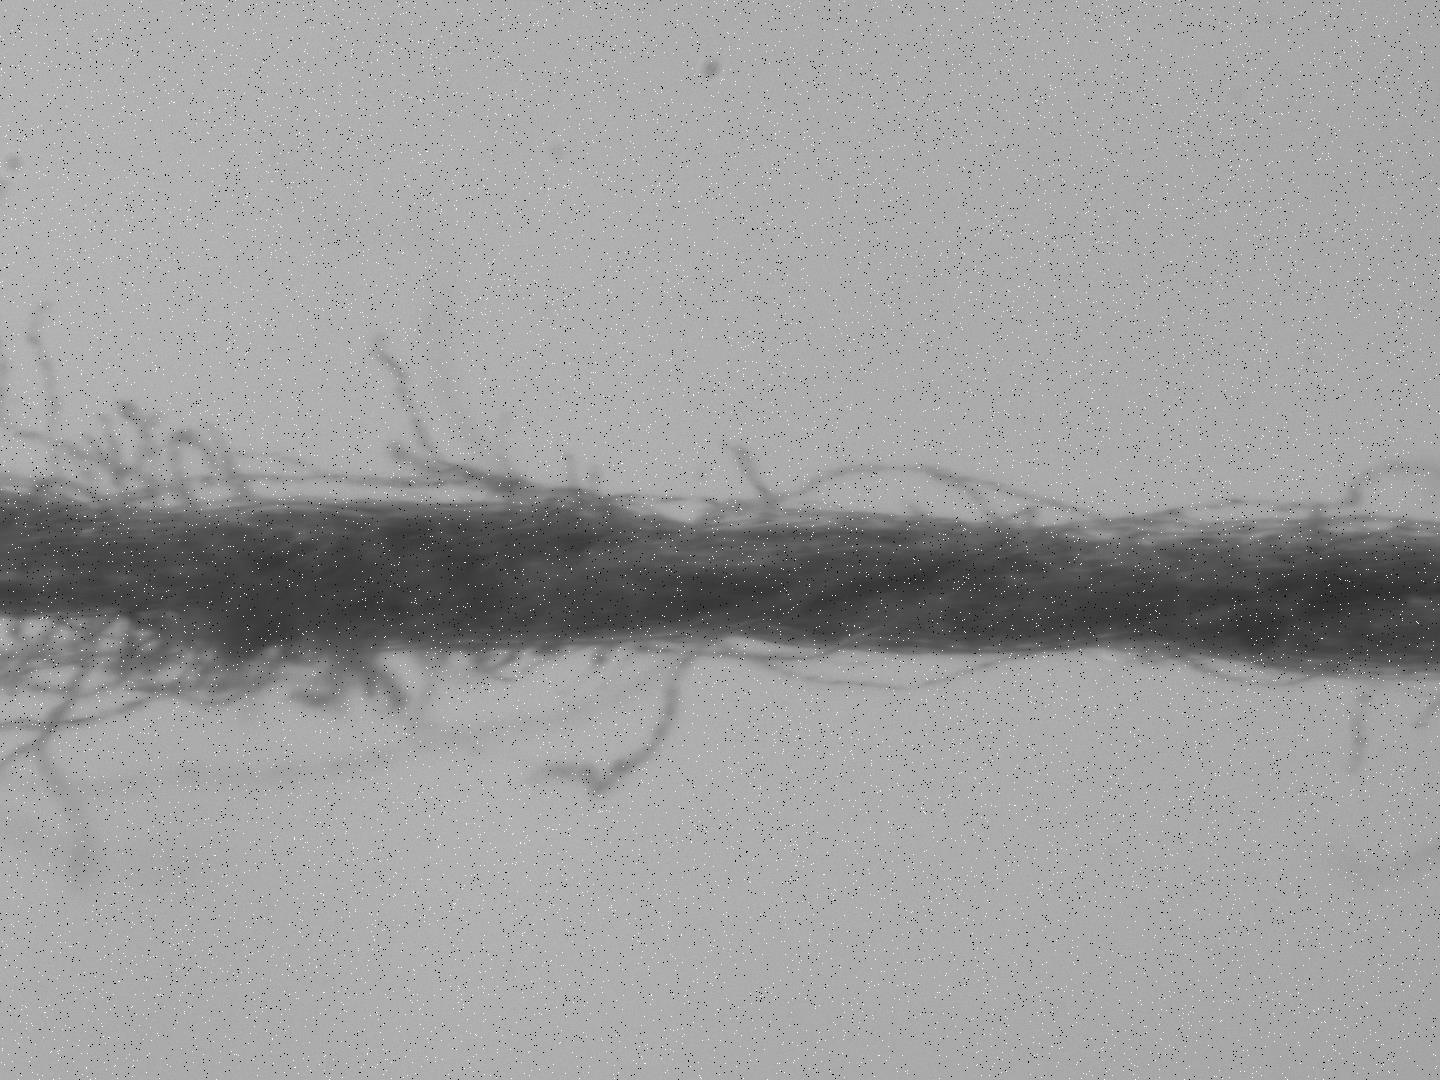loop_fiber: (692, 452, 1140, 541), (709, 628, 1067, 697)
protruding_fiber: (517, 632, 713, 804)
